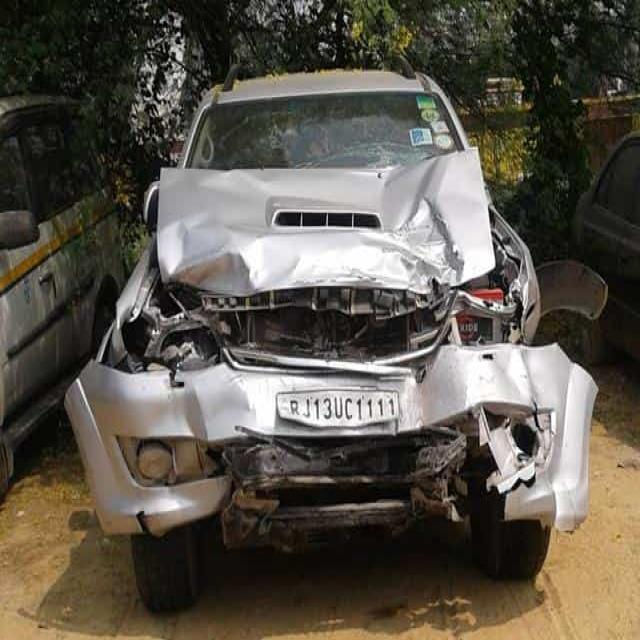accident: (65, 72, 605, 606)
